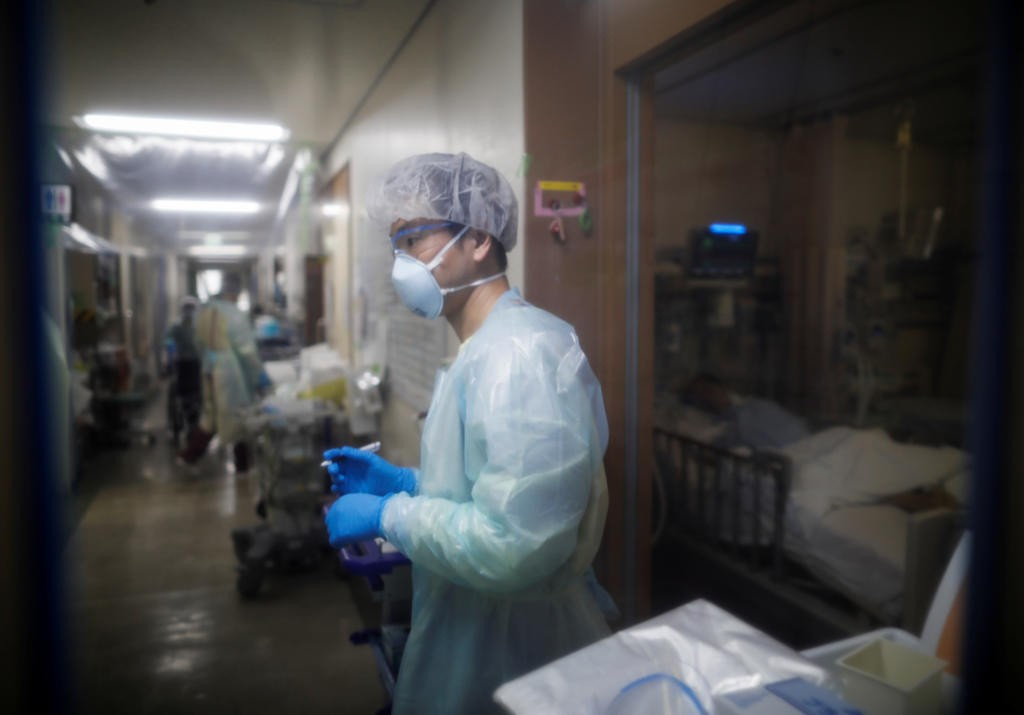Coverall: (398, 293, 622, 715)
Gloves: (318, 441, 418, 499), (319, 489, 395, 544)
Goggles: (381, 215, 461, 255)
with_mask: (386, 230, 464, 315)
